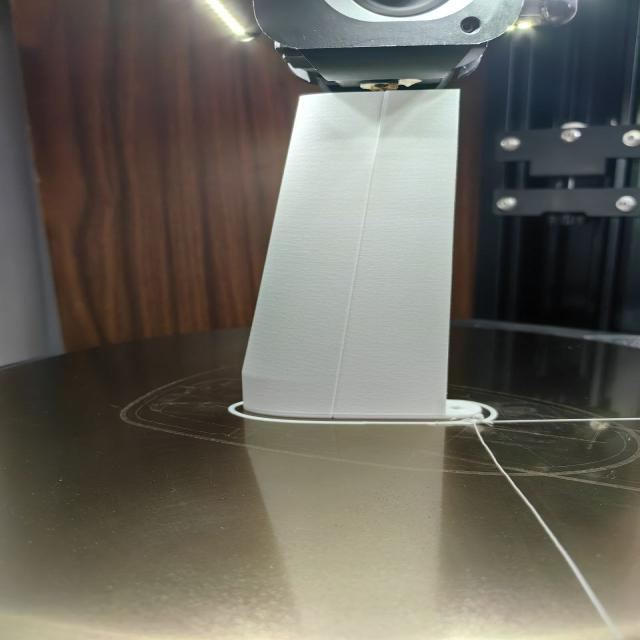Without deffect: (207, 69, 515, 442)
